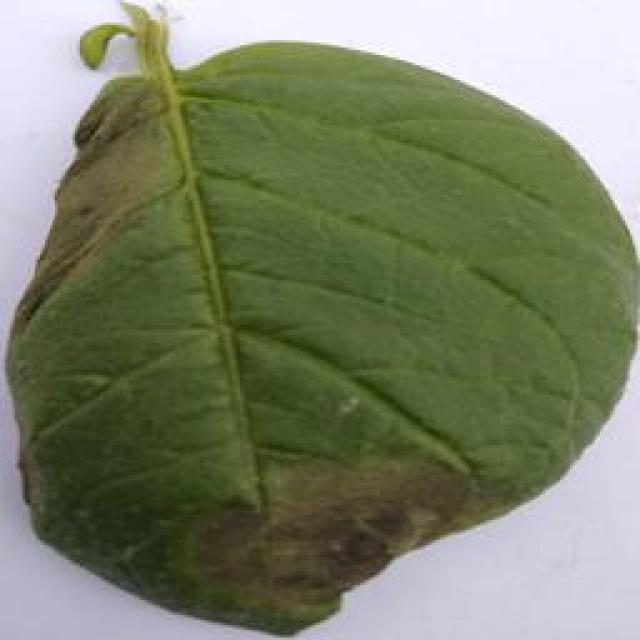Potato_Late_Blight: (0, 15, 628, 640), (461, 4, 636, 127)
